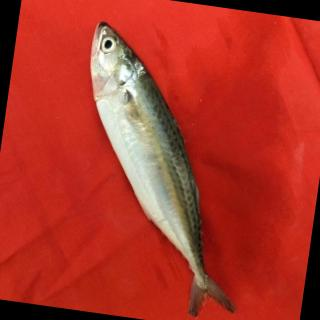Ikan: (31, 5, 286, 320)
